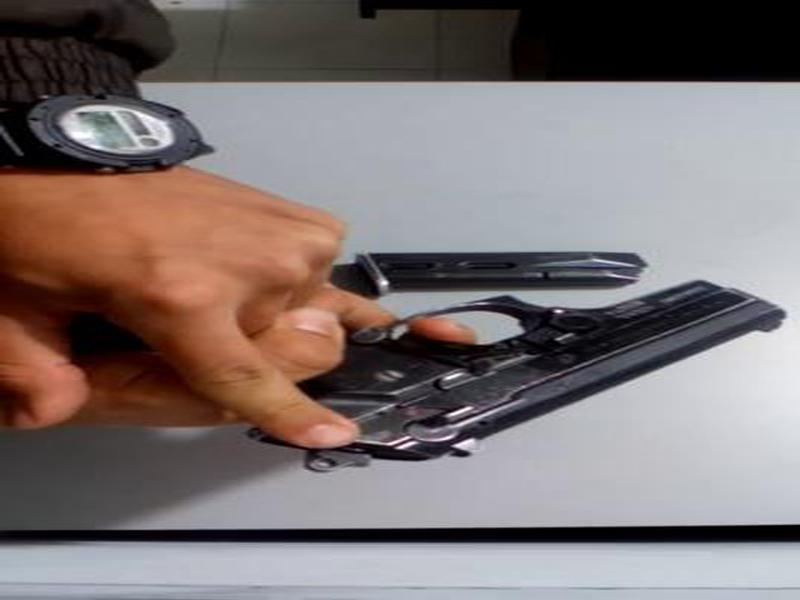Pistola: (280, 220, 800, 441)
